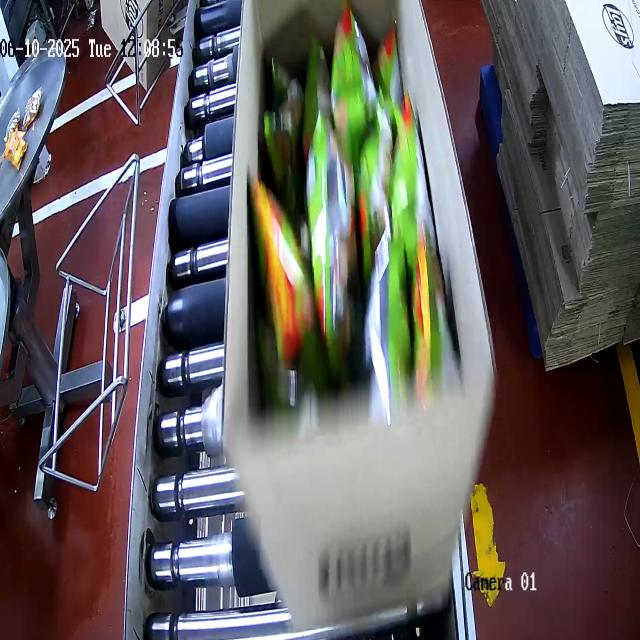YOGURT_HERB: (260, 12, 432, 414)
